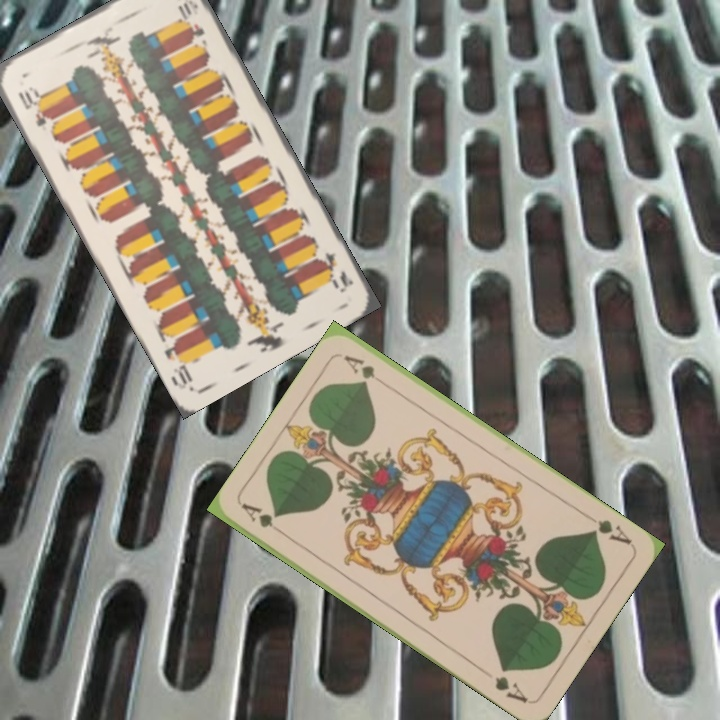E10: (311, 243, 357, 296), (13, 82, 51, 130)
GA: (238, 499, 290, 540), (581, 510, 635, 547)
